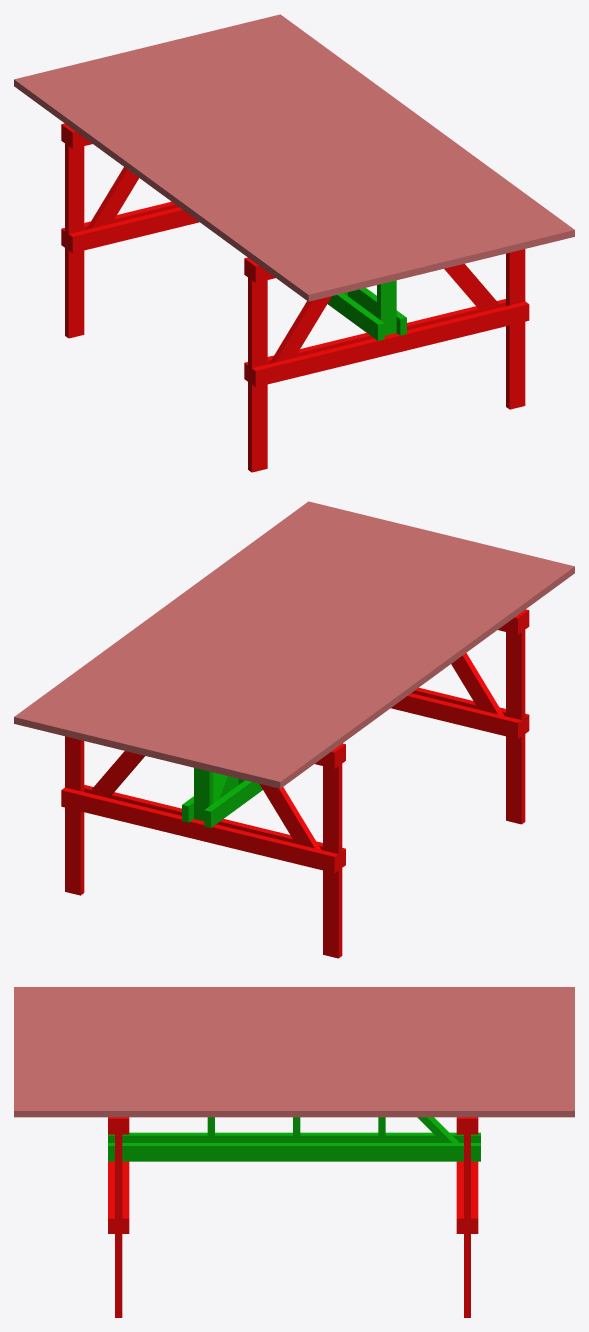
File: result.glb
The picture shows the model from 3 angles, top to bottom: view 1: azimuth 30°, elevation 25°; view 2: azimuth 150°, elevation 25°; view 3: azimuth 270°, elevation 25°; orthographic projection. The views are drawn at different scales.
Parts seen in each view (by area): view 1: bbbd5a14-588c-48f5-be27-d1c5b50aa5d1__Box, d6585c1e-4e6a-4892-9aef-f6c4d1945812__sideH, d6183fce-01ea-412f-925e-8d0095c4cdb4__undefined, 0153c8a4-703d-46ce-acaf-28fa6e4a3164__undefined, 61741b50-4c40-4047-80f0-65b5d234cdbd__undefined, ac816c29-2c79-433e-b36f-e373bbd454b6__undefined, 76a549f3-ca9a-4a24-a188-68d41a287da0__undefined, bb934860-d796-426c-98af-b3eb54005d54__undefined, 4b8ab503-9185-4ab9-a629-06740f8193c9__undefined, f01604f4-20e8-4e8c-95ef-e1522471d0db__undefined, c448bcbe-84ea-4300-8716-e76ae16af6cb__undefined, e9f1266e-8011-49b7-b583-694ee3ef8050__undefined (+18 smaller); view 2: bbbd5a14-588c-48f5-be27-d1c5b50aa5d1__Box, b4b838b7-3f4d-46ea-a7a3-8eead444db50__undefined, 61741b50-4c40-4047-80f0-65b5d234cdbd__undefined, 0153c8a4-703d-46ce-acaf-28fa6e4a3164__undefined, d6183fce-01ea-412f-925e-8d0095c4cdb4__undefined, 76a549f3-ca9a-4a24-a188-68d41a287da0__undefined, ac816c29-2c79-433e-b36f-e373bbd454b6__undefined, e9f1266e-8011-49b7-b583-694ee3ef8050__undefined, e957f72e-4757-49d6-b449-398b4417bbd8__undefined, 4b8ab503-9185-4ab9-a629-06740f8193c9__undefined, be18327c-ea9c-4de1-8c4f-b9312cfeede5__undefined, c448bcbe-84ea-4300-8716-e76ae16af6cb__undefined (+17 smaller); view 3: c448bcbe-84ea-4300-8716-e76ae16af6cb__undefined, b8dd8d3d-9081-4567-a258-cb57fbe49d1e__strutH, bbbd5a14-588c-48f5-be27-d1c5b50aa5d1__Box, 81582b05-f733-4301-9daa-c33d9b3fc65e__undefined, e9f1266e-8011-49b7-b583-694ee3ef8050__undefined, 0153c8a4-703d-46ce-acaf-28fa6e4a3164__undefined, e957f72e-4757-49d6-b449-398b4417bbd8__undefined, bc768e0a-7f64-4bff-a1d5-52c5c1c37c42__undefined, d6183fce-01ea-412f-925e-8d0095c4cdb4__undefined, 2d0d0edf-5f55-4b57-8221-2c7c91f74906__undefined, 4b8ab503-9185-4ab9-a629-06740f8193c9__undefined, 76a549f3-ca9a-4a24-a188-68d41a287da0__undefined (+14 smaller).
Boxes of the visible parts, bbox=[...] form: bbbd5a14-588c-48f5-be27-d1c5b50aa5d1__Box: bbox=[14, 75, 324, 301]; d6585c1e-4e6a-4892-9aef-f6c4d1945812__sideH: bbox=[252, 301, 529, 387]; d6183fce-01ea-412f-925e-8d0095c4cdb4__undefined: bbox=[108, 52, 418, 278]; 0153c8a4-703d-46ce-acaf-28fa6e4a3164__undefined: bbox=[61, 64, 371, 289]; 61741b50-4c40-4047-80f0-65b5d234cdbd__undefined: bbox=[202, 29, 512, 255]; ac816c29-2c79-433e-b36f-e373bbd454b6__undefined: bbox=[249, 18, 559, 244]; 76a549f3-ca9a-4a24-a188-68d41a287da0__undefined: bbox=[155, 41, 465, 267]; bb934860-d796-426c-98af-b3eb54005d54__undefined: bbox=[187, 33, 496, 259]; 4b8ab503-9185-4ab9-a629-06740f8193c9__undefined: bbox=[139, 45, 449, 270]; f01604f4-20e8-4e8c-95ef-e1522471d0db__undefined: bbox=[233, 22, 543, 247]; c448bcbe-84ea-4300-8716-e76ae16af6cb__undefined: bbox=[265, 14, 574, 240]; e9f1266e-8011-49b7-b583-694ee3ef8050__undefined: bbox=[45, 68, 355, 293]; bbbd5a14-588c-48f5-be27-d1c5b50aa5d1__Box: bbox=[264, 562, 574, 788]; b4b838b7-3f4d-46ea-a7a3-8eead444db50__undefined: bbox=[61, 787, 338, 873]; 61741b50-4c40-4047-80f0-65b5d234cdbd__undefined: bbox=[76, 516, 386, 742]; 0153c8a4-703d-46ce-acaf-28fa6e4a3164__undefined: bbox=[217, 551, 527, 777]; d6183fce-01ea-412f-925e-8d0095c4cdb4__undefined: bbox=[170, 539, 480, 765]; 76a549f3-ca9a-4a24-a188-68d41a287da0__undefined: bbox=[123, 528, 433, 754]; ac816c29-2c79-433e-b36f-e373bbd454b6__undefined: bbox=[29, 505, 339, 731]; e9f1266e-8011-49b7-b583-694ee3ef8050__undefined: bbox=[233, 555, 543, 780]; e957f72e-4757-49d6-b449-398b4417bbd8__undefined: bbox=[202, 547, 511, 773]; 4b8ab503-9185-4ab9-a629-06740f8193c9__undefined: bbox=[139, 532, 449, 757]; be18327c-ea9c-4de1-8c4f-b9312cfeede5__undefined: bbox=[108, 524, 417, 750]; c448bcbe-84ea-4300-8716-e76ae16af6cb__undefined: bbox=[14, 501, 323, 727]; c448bcbe-84ea-4300-8716-e76ae16af6cb__undefined: bbox=[14, 1103, 574, 1117]; b8dd8d3d-9081-4567-a258-cb57fbe49d1e__strutH: bbox=[108, 1143, 480, 1161]; bbbd5a14-588c-48f5-be27-d1c5b50aa5d1__Box: bbox=[14, 987, 574, 994]; 81582b05-f733-4301-9daa-c33d9b3fc65e__undefined: bbox=[14, 994, 574, 1001]; e9f1266e-8011-49b7-b583-694ee3ef8050__undefined: bbox=[14, 1001, 574, 1008]; 0153c8a4-703d-46ce-acaf-28fa6e4a3164__undefined: bbox=[14, 1009, 574, 1016]; e957f72e-4757-49d6-b449-398b4417bbd8__undefined: bbox=[14, 1016, 574, 1023]; bc768e0a-7f64-4bff-a1d5-52c5c1c37c42__undefined: bbox=[14, 1023, 574, 1030]; d6183fce-01ea-412f-925e-8d0095c4cdb4__undefined: bbox=[14, 1030, 574, 1037]; 2d0d0edf-5f55-4b57-8221-2c7c91f74906__undefined: bbox=[14, 1038, 574, 1045]; 4b8ab503-9185-4ab9-a629-06740f8193c9__undefined: bbox=[14, 1045, 574, 1052]; 76a549f3-ca9a-4a24-a188-68d41a287da0__undefined: bbox=[14, 1052, 574, 1059].
Bounding box in the file's own units: 960 × 723 × 1790.
